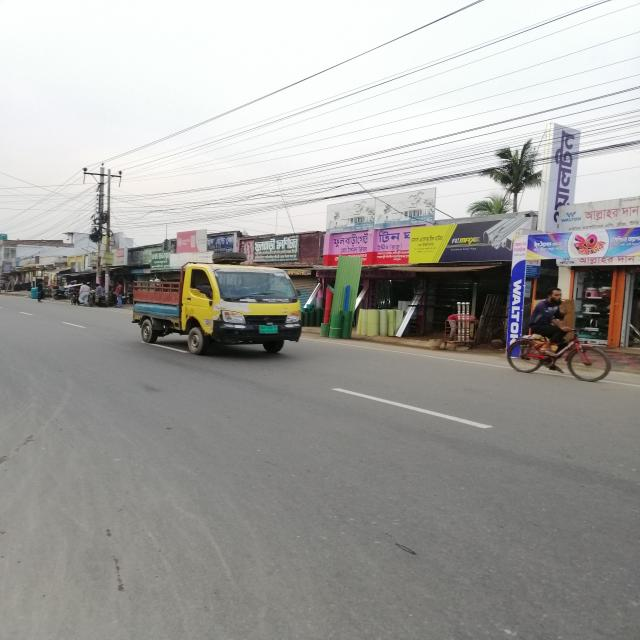Bicycle: (484, 322, 625, 395)
Pick-Up Truck: (110, 259, 320, 377)
